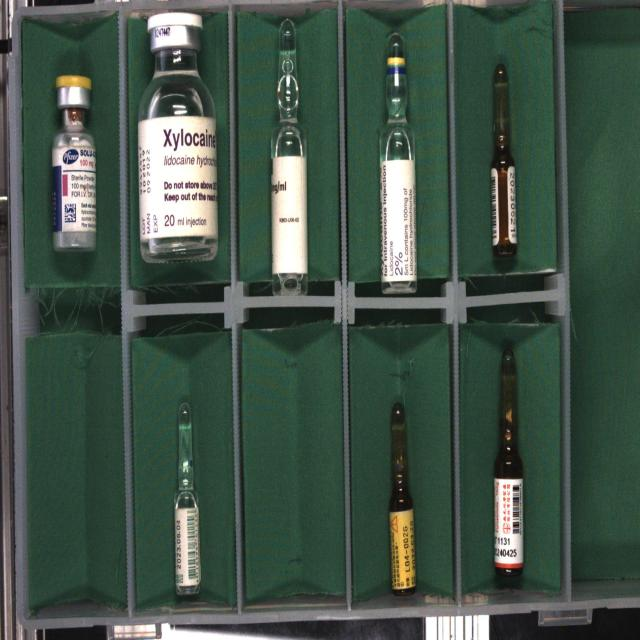Ampoules: (271, 19, 308, 294), (380, 33, 417, 294), (493, 349, 523, 575), (389, 403, 416, 595), (174, 403, 200, 595), (491, 64, 516, 257)
Vials: (138, 12, 218, 263), (52, 75, 96, 251)
